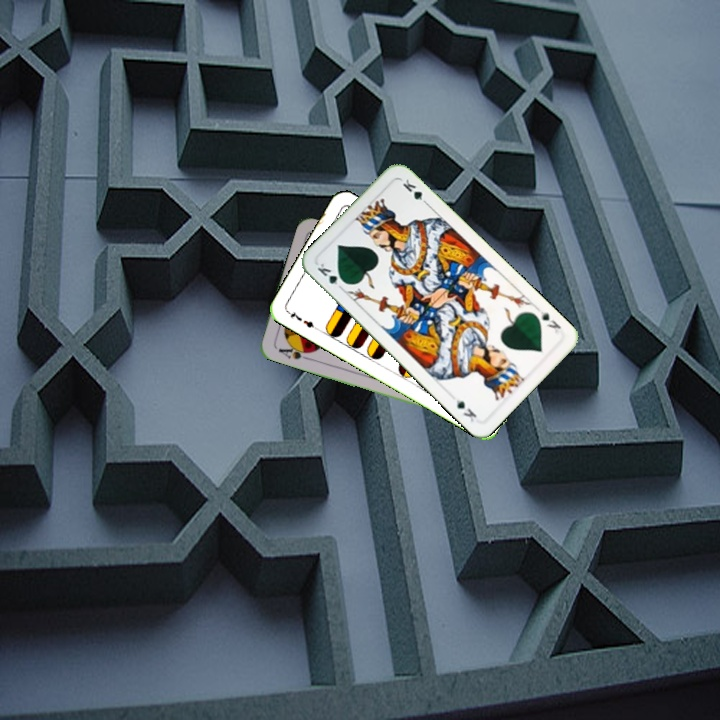E7: (283, 306, 320, 333)
GK: (313, 259, 349, 292), (533, 304, 563, 335)
SA: (274, 340, 314, 363)
